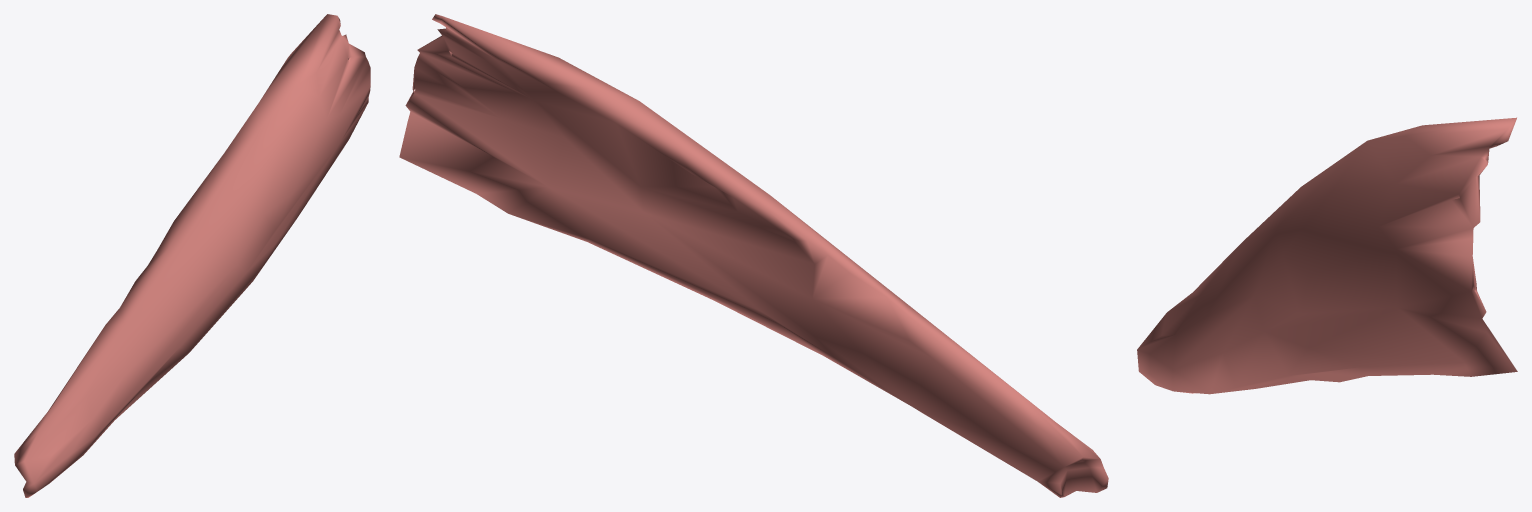
3 views of the same model, side by side, from view 1: azimuth 30°, elevation 25°; view 2: azimuth 150°, elevation 25°; view 3: azimuth 270°, elevation 25° (orthographic). The views are drawn at different scales.
Visible parts, largest first — view 1: ZA_1f1fbd1ed3dfde2c; view 2: ZA_1f1fbd1ed3dfde2c; view 3: ZA_1f1fbd1ed3dfde2c.
Boxes of the visible parts, box(x1,y1,x2,y2) form: ZA_1f1fbd1ed3dfde2c: box(14, 14, 370, 497); ZA_1f1fbd1ed3dfde2c: box(399, 14, 1108, 497); ZA_1f1fbd1ed3dfde2c: box(1137, 117, 1517, 394).
Size of the model in its own units: 0.0434 by 0.0309 by 0.0165.
